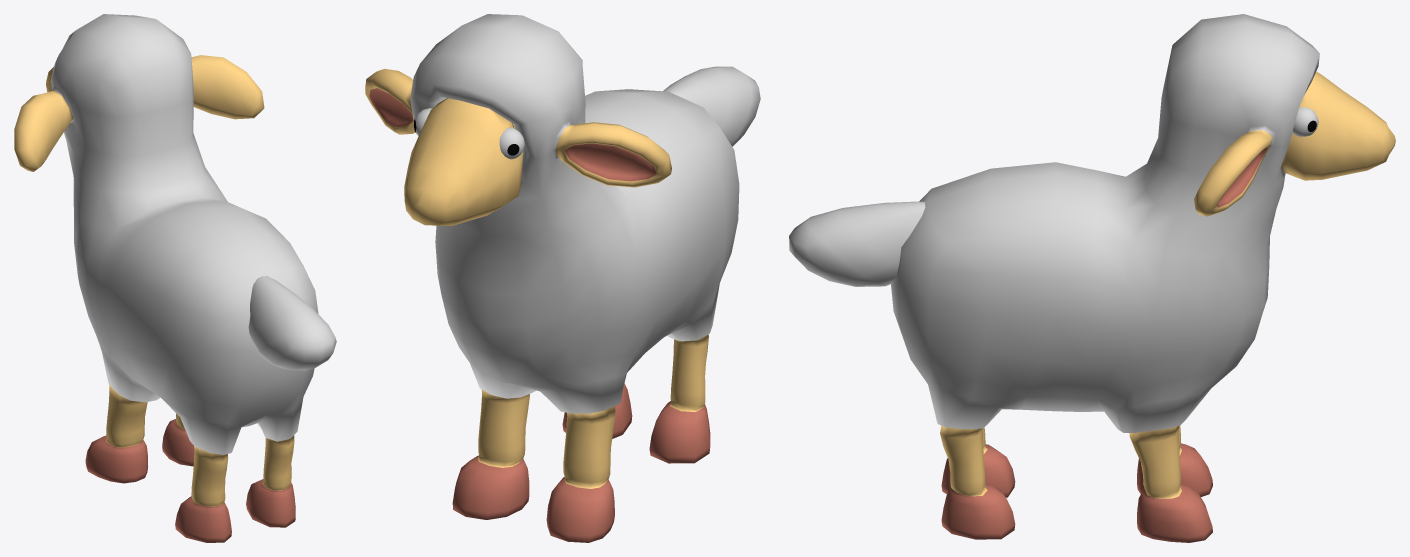
File: Domba.fbx
3 renders of one model, left to right at view 1: azimuth 30°, elevation 25°; view 2: azimuth 150°, elevation 25°; view 3: azimuth 270°, elevation 25°, orthographic. The views are drawn at different scales.
Parts seen in each view (by area): view 1: Cube; view 2: Cube; view 3: Cube.
Boxes of the visible parts, bbox=[...] form: Cube: bbox=[14, 14, 336, 542]; Cube: bbox=[365, 14, 760, 542]; Cube: bbox=[789, 14, 1395, 542].
Size of the model in its own units: 5015 by 8227 by 9259.
